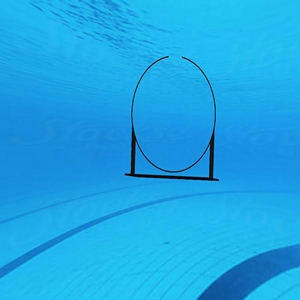circle: (122, 52, 225, 191)
